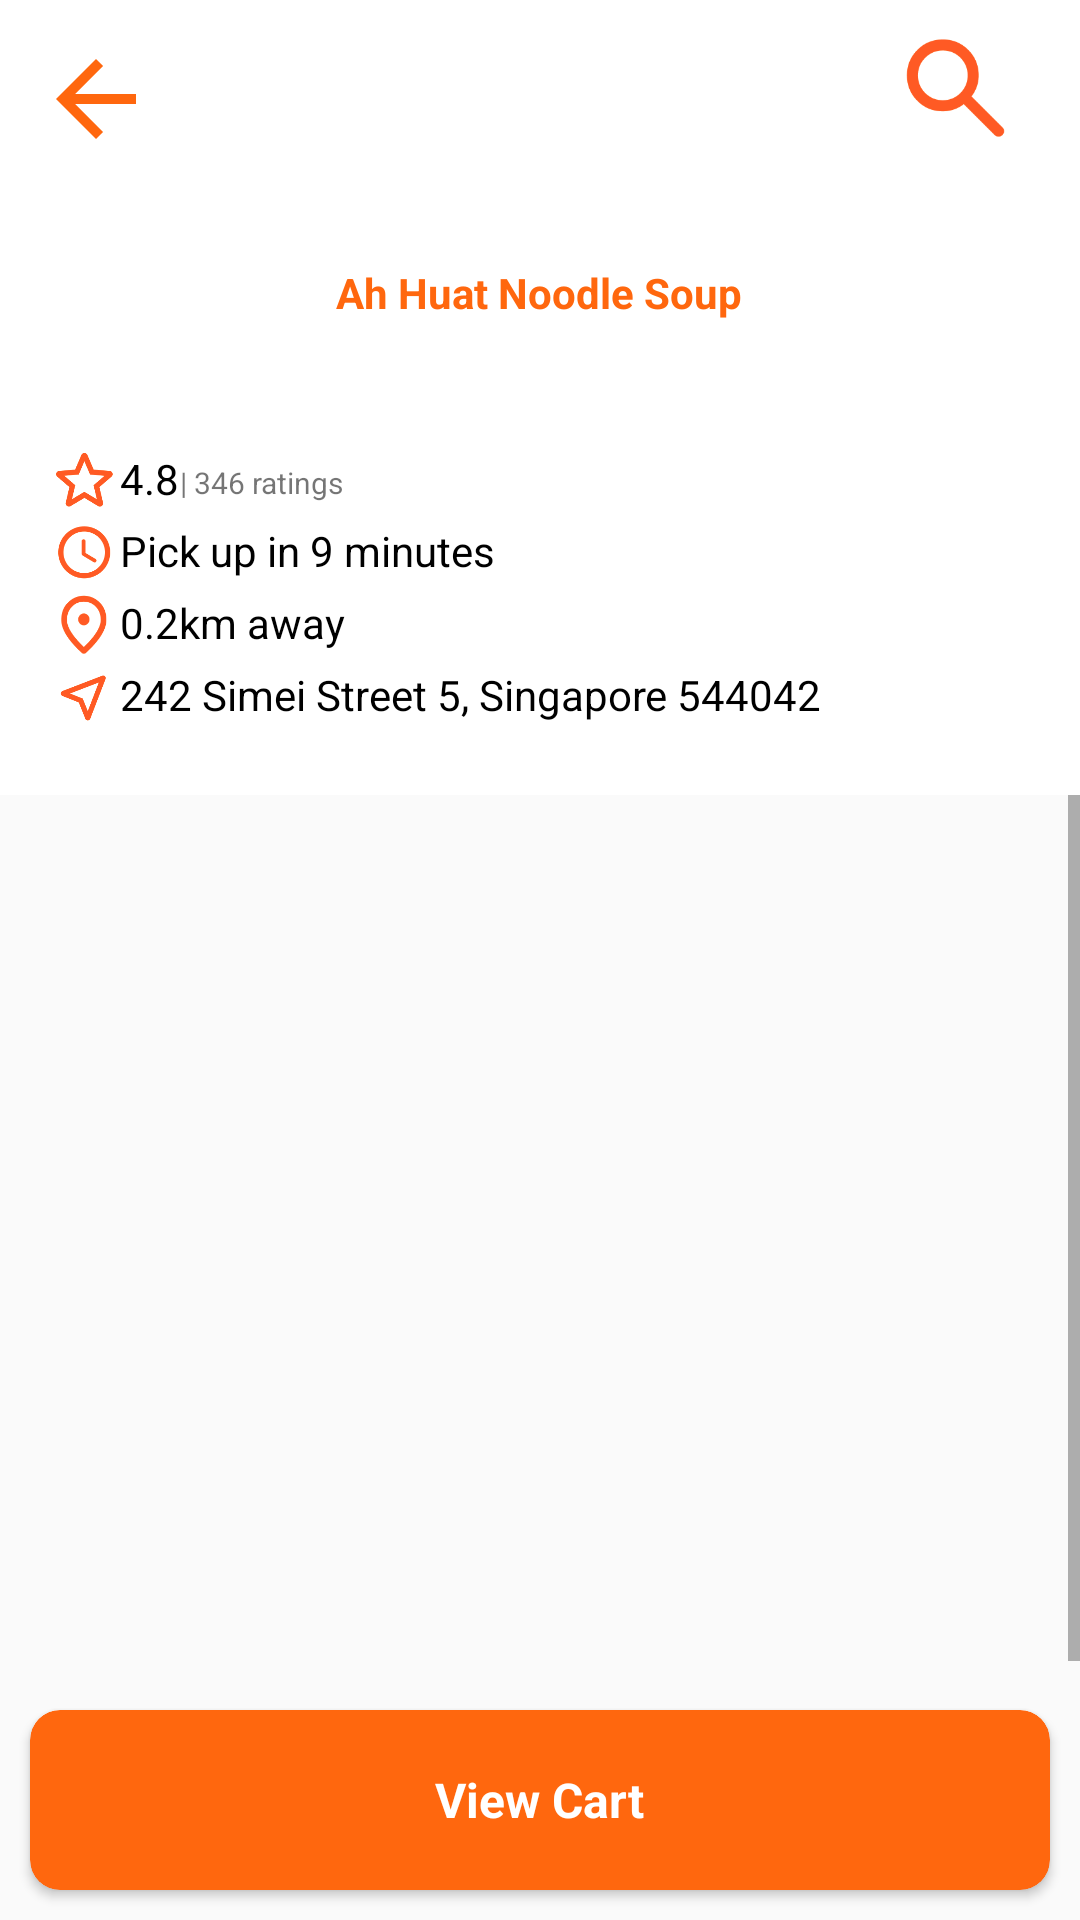

Screen size 1080px x 1920px. Icon name, then its center in pixels as (x,y):
BACK: (96,99)
duration: (84,552)
fav: (84,480)
search: (955,88)
